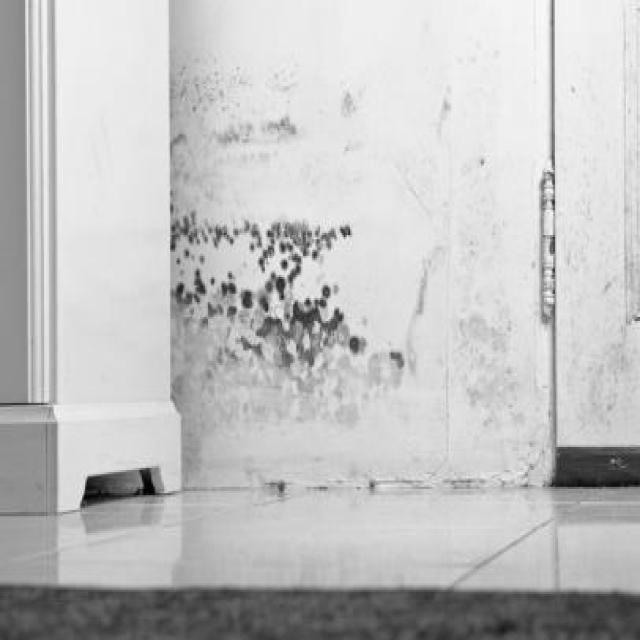stain marks: (176, 35, 550, 481)
